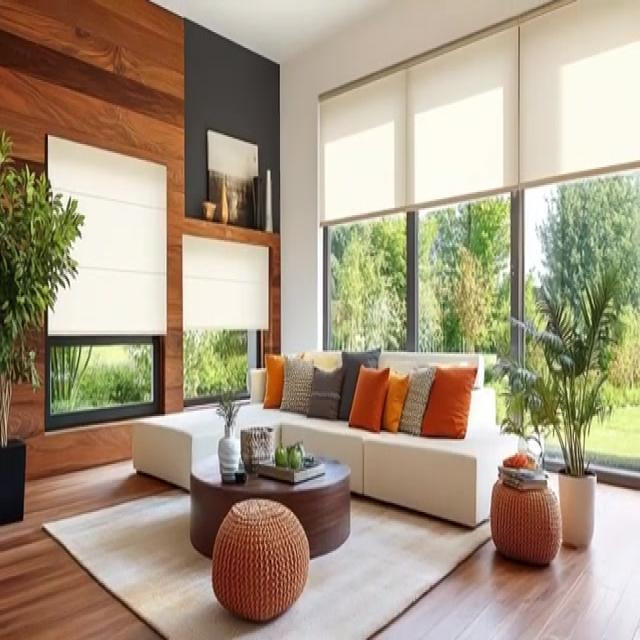obstacle: (133, 349, 482, 525), (189, 450, 351, 560)
